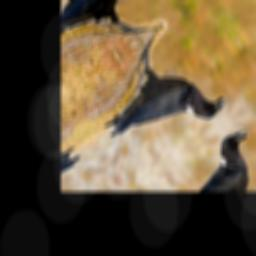Crow: (78, 21, 231, 172)
